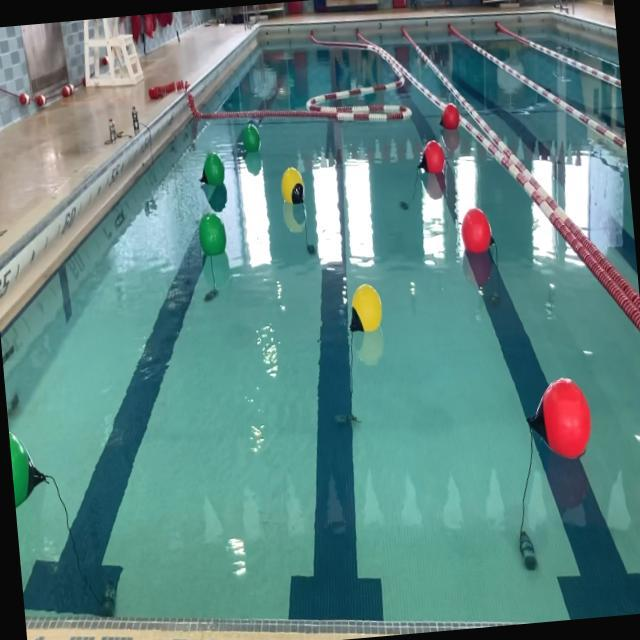buoy: (522, 371, 596, 463), (8, 425, 53, 517), (338, 280, 380, 339), (457, 203, 498, 258), (196, 208, 228, 258), (278, 163, 308, 210), (414, 138, 447, 178), (196, 150, 227, 188), (436, 102, 462, 134), (239, 122, 262, 156)
